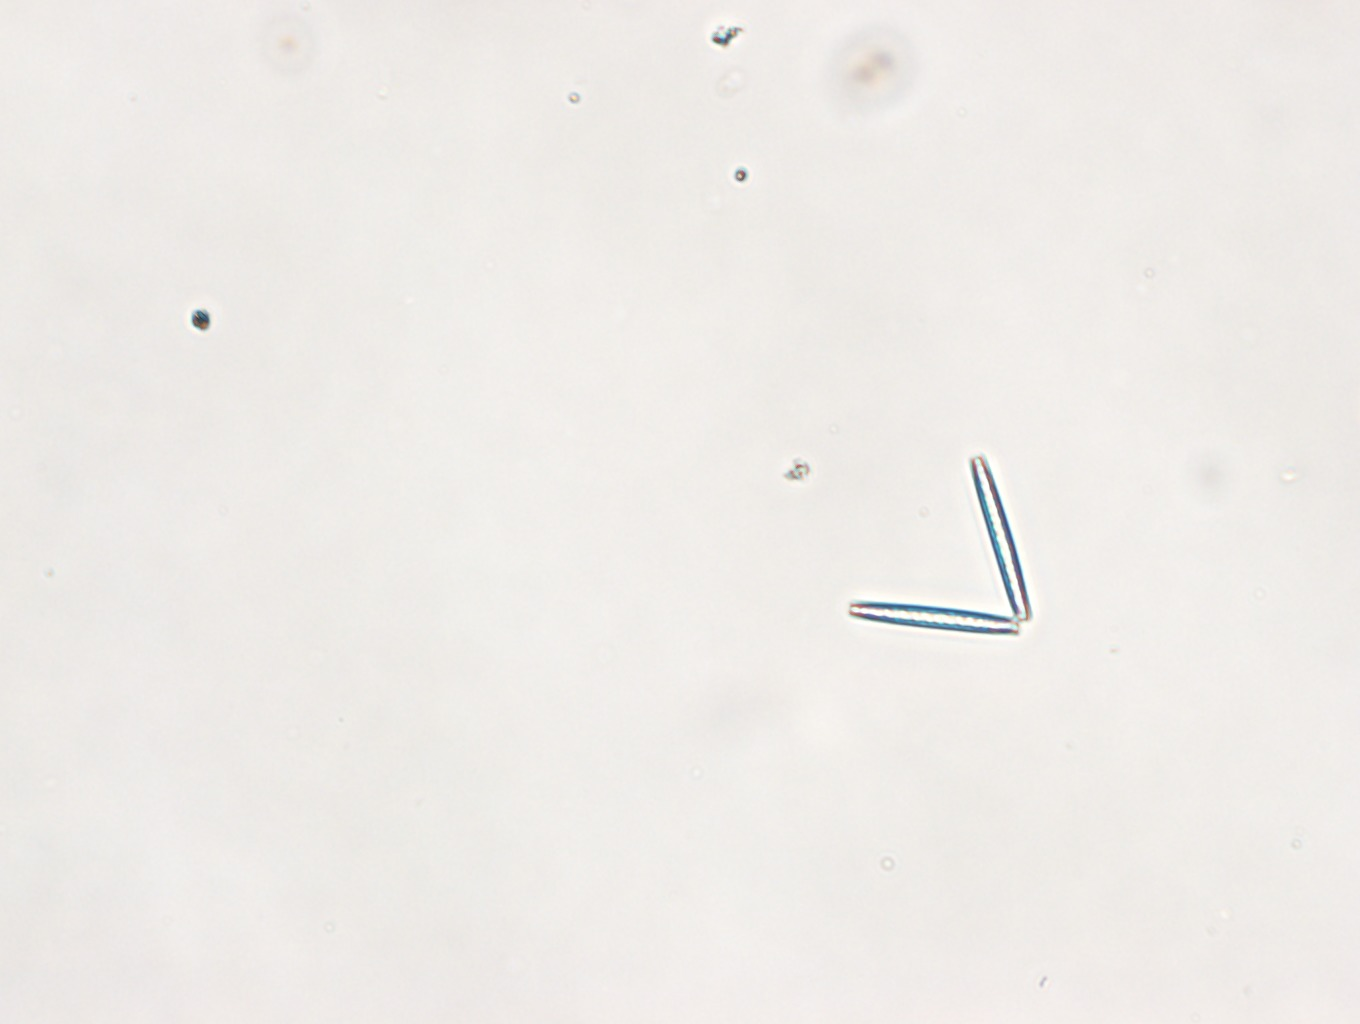thalassionema nitzschioides: (846, 452, 1033, 638)
